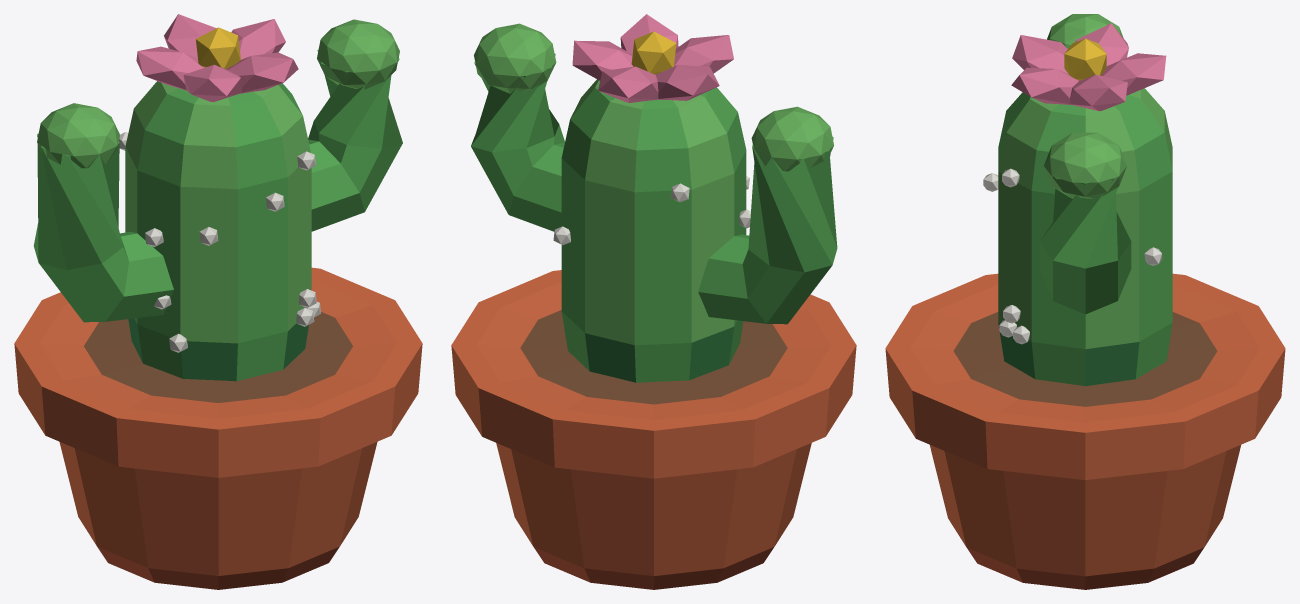
The model's file is habitat_prop_prickles.fbx.
3 renders of one model, left to right at view 1: azimuth 30°, elevation 25°; view 2: azimuth 150°, elevation 25°; view 3: azimuth 270°, elevation 25°, orthographic. The views are drawn at different scales.
Visible parts, largest first — view 1: habitat_prop_prickles; view 2: habitat_prop_prickles; view 3: habitat_prop_prickles.
Boxes of the visible parts, x1=… form: habitat_prop_prickles: x1=14, y1=14, x2=422, y2=589; habitat_prop_prickles: x1=451, y1=14, x2=856, y2=589; habitat_prop_prickles: x1=885, y1=14, x2=1285, y2=589.
Size of the model in its own units: 0.9765 by 1.32 by 0.96.
